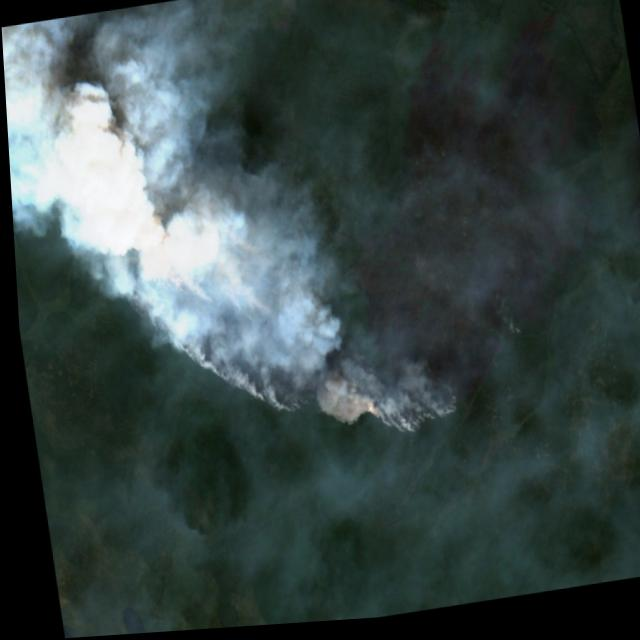fire: (117, 188, 458, 475)
